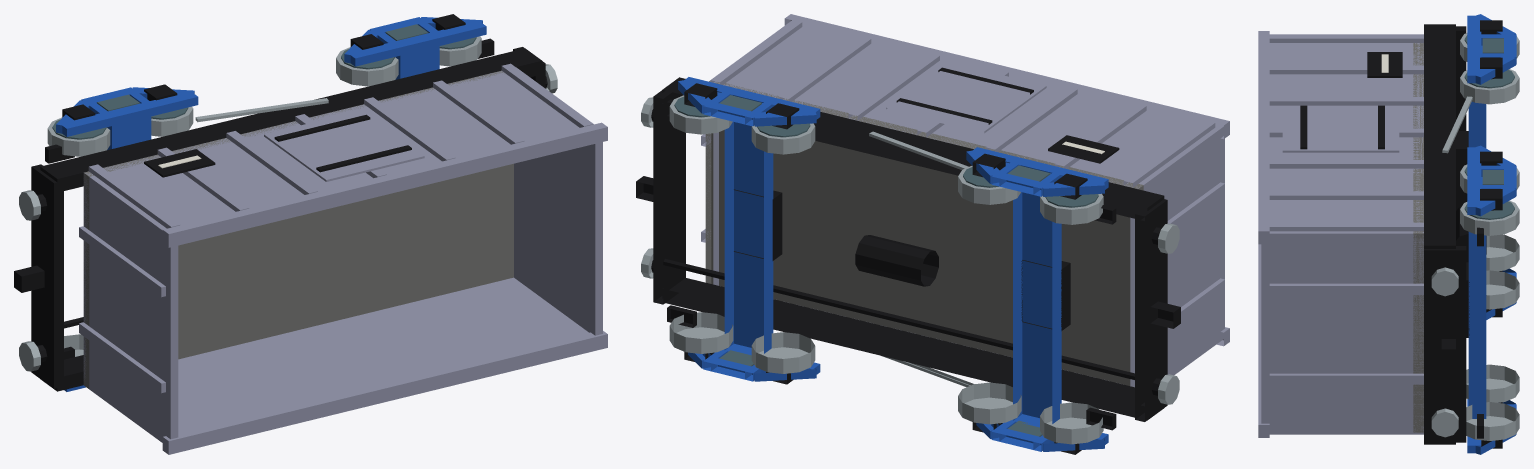
Rendered from empty.glb.
3 views of the same model, side by side, from view 1: azimuth 30°, elevation 25°; view 2: azimuth 150°, elevation 25°; view 3: azimuth 270°, elevation 25° (orthographic). The views are drawn at different scales.
Parts seen in each view (by area): view 1: empty_body, empty_solebar1, empty_bogie-1, empty_bogie1, empty_headstock-1, empty_door1, empty_buffers-1, empty_panel1, empty_brake_lever1, empty_solebar-1, empty_hinge12.6, empty_hinge13.6999999999999997; view 2: empty_body, empty_bogie1, empty_bogie-1, empty_solebar-1, empty_headstock1, empty_headstock-1, empty_door1, empty_solebar1, empty_brake_cylinder, empty_brake_pipe, empty_buffers-1, empty_buffers1 (+4 smaller); view 3: empty_body, empty_bogie1, empty_bogie-1, empty_solebar1, empty_headstock1, empty_door1, empty_buffers1, empty_panel1, empty_pivot-1, empty_headstock-1, empty_brake_lever1, empty_brake_cylinder (+2 smaller).
Boxes of the visible parts, x1,y1,x2,y2 form: empty_body: (79,63,607,454); empty_solebar1: (40,48,542,190); empty_bogie-1: (47,84,198,391); empty_bogie1: (336,14,486,86); empty_headstock-1: (31,164,63,388); empty_door1: (264,110,424,181); empty_buffers-1: (14,190,47,371); empty_panel1: (144,149,215,177); empty_brake_lever1: (195,98,328,122); empty_solebar-1: (40,355,83,391); empty_hinge12.6: (274,114,370,141); empty_hinge13.6999999999999997: (316,145,411,172); empty_body: (701,14,1229,387); empty_bogie1: (669,77,820,384); empty_bogie-1: (958,147,1108,454); empty_solebar-1: (662,278,1163,420); empty_headstock1: (653,90,685,304); empty_headstock-1: (1135,199,1167,421); empty_door1: (886,62,1046,133); empty_solebar1: (662,77,1164,220); empty_brake_cylinder: (855,235,938,286); empty_brake_pipe: (663,259,1134,379); empty_buffers-1: (1150,223,1180,404); empty_buffers1: (636,97,663,278); empty_body: (1258,31,1423,437); empty_bogie1: (1460,145,1519,454); empty_bogie-1: (1460,14,1519,319); empty_solebar1: (1424,24,1455,248); empty_headstock1: (1424,246,1466,442); empty_door1: (1282,106,1399,152); empty_buffers1: (1431,267,1458,437); empty_panel1: (1367,52,1402,77); empty_pivot-1: (1456,131,1468,206); empty_headstock-1: (1456,26,1466,210); empty_brake_lever1: (1442,96,1472,153); empty_brake_cylinder: (1456,206,1486,262).
Bounding box in the file's own units: 8.2 × 3.9 × 3.69.
